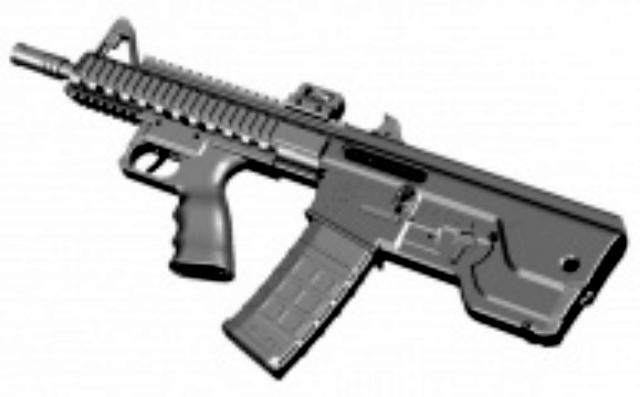rifle: (10, 8, 640, 397)
